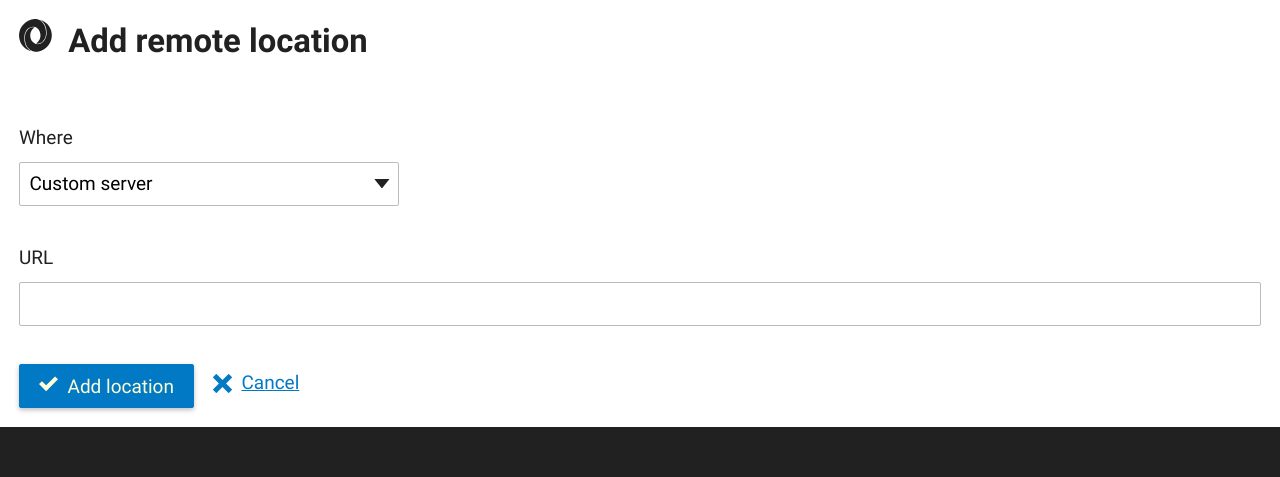
Test case: should not be able to add with a blank URL
The width and height of the screenshot is (1280, 477).
Select "Custom server" in the dropdown labelled "Where" at (209, 184), box [19,162,399,206]
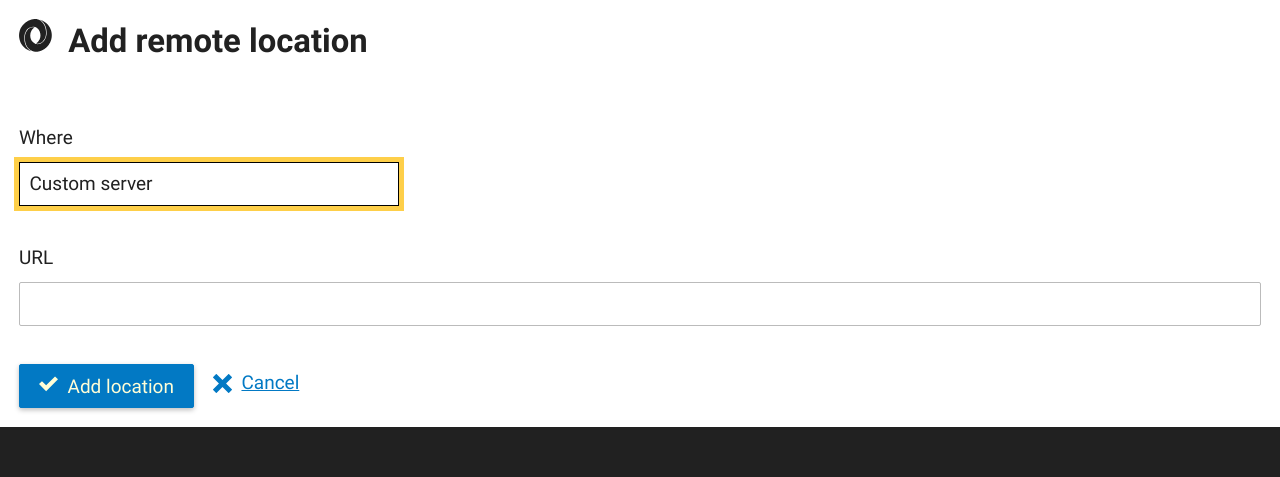
Click the button "Add location" at (106, 386), box [19,364,194,408]
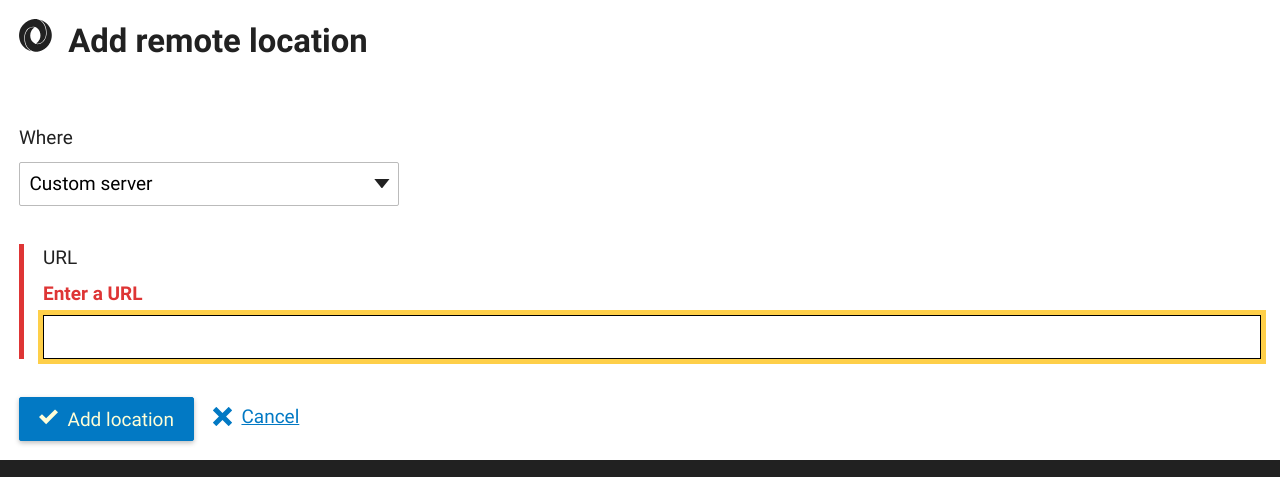
Expected: the text "Enter a URL" is shown, [42,281,142,305]
